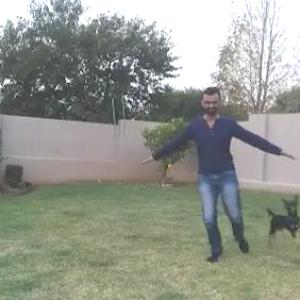land: (138, 90, 288, 258)
